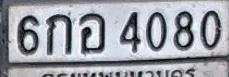0: (146, 11, 167, 51), (200, 10, 221, 49)
4: (119, 11, 140, 52)
6: (17, 14, 39, 54)
8: (174, 10, 194, 50)
A01: (46, 13, 72, 54)
A43: (79, 12, 105, 53)
